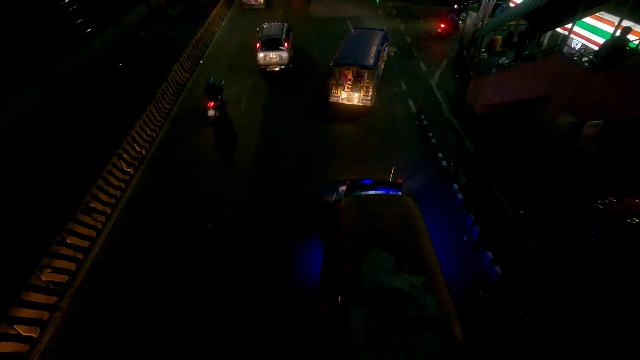car: (256, 22, 293, 70)
jeepney: (330, 27, 389, 105)
motorcycle: (434, 5, 462, 38), (204, 78, 225, 119)
